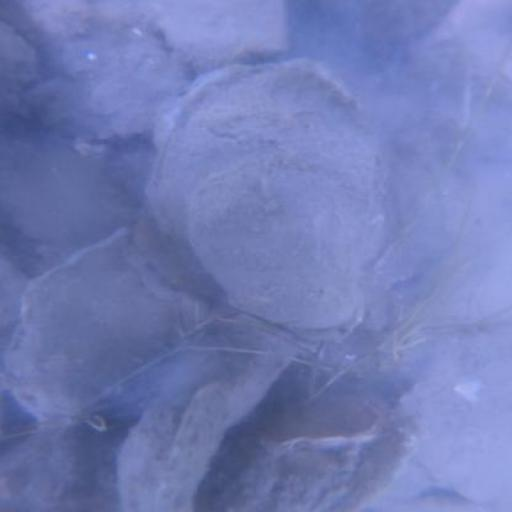Oyster-Closed: (114, 320, 303, 512), (10, 250, 179, 419), (1, 1, 186, 143), (329, 412, 430, 512), (253, 397, 402, 455), (158, 3, 288, 68)
Oyster-Open: (147, 52, 377, 259), (188, 172, 365, 348)
